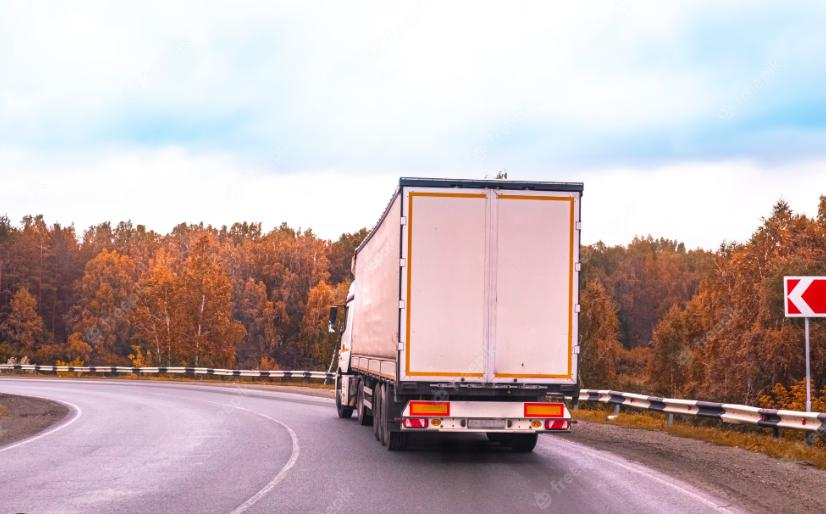vehicle: (329, 176, 584, 450)
